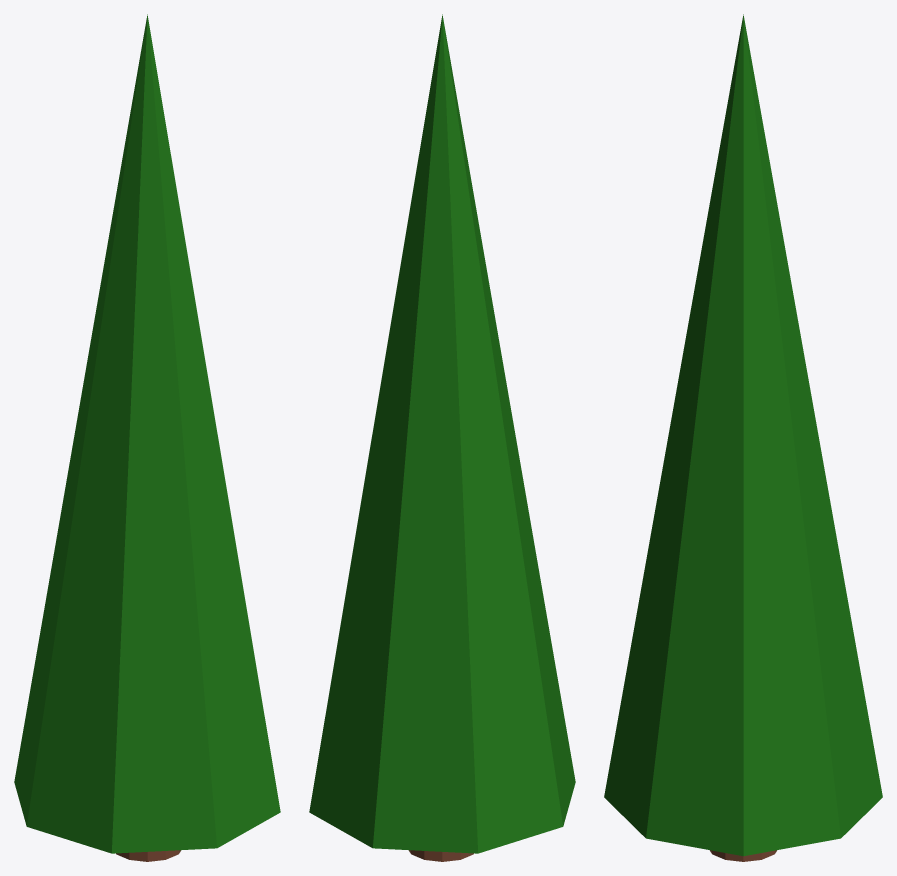
The model's file is Tree_24_summer_mat.fbx.
3 views of the same model, side by side, from view 1: azimuth 30°, elevation 25°; view 2: azimuth 150°, elevation 25°; view 3: azimuth 270°, elevation 25° (orthographic).
Parts seen in each view (by area): view 1: Tree_24_summer_mat; view 2: Tree_24_summer_mat; view 3: Tree_24_summer_mat.
Part boxes in pixels (x1,y1,x2,y2): Tree_24_summer_mat: (14,14,280,861); Tree_24_summer_mat: (309,14,575,861); Tree_24_summer_mat: (604,14,882,861).
Bounding box in the file's own units: 85.35 × 281 × 85.35.
